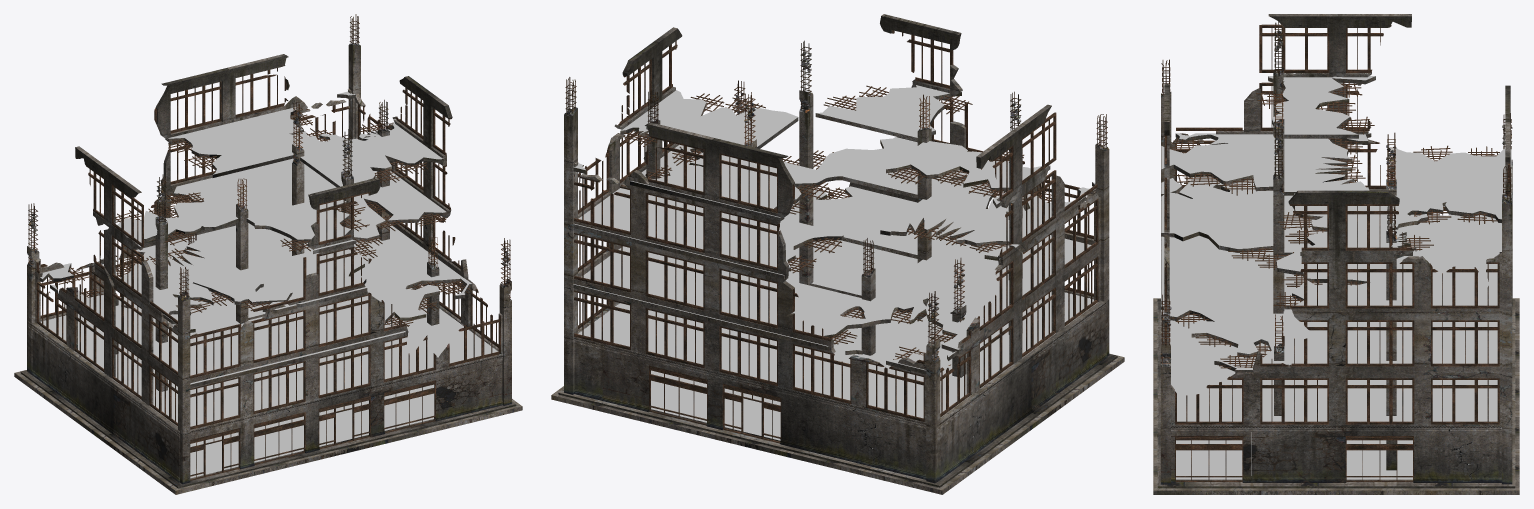
File: RuinedBuilding.fbx
3 renders of one model, left to right at view 1: azimuth 30°, elevation 25°; view 2: azimuth 150°, elevation 25°; view 3: azimuth 270°, elevation 25°, orthographic. The views are drawn at different scales.
Visible parts, largest first — view 1: D3; view 2: D3; view 3: D3.
Boxes of the visible parts, x1=… form: D3: x1=14, y1=14, x2=522, y2=494; D3: x1=551, y1=14, x2=1124, y2=494; D3: x1=1153, y1=14, x2=1519, y2=494.
Bounding box in the file's own units: 2627 × 2050 × 2118.
